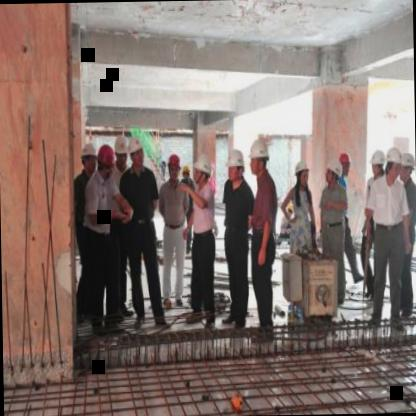helmet: (247, 134, 272, 182), (226, 146, 245, 186), (191, 151, 215, 182), (78, 140, 96, 176), (385, 144, 401, 183), (127, 134, 144, 170), (96, 145, 115, 176), (367, 148, 386, 178), (323, 158, 342, 188), (165, 152, 184, 182), (294, 158, 312, 188), (402, 148, 416, 184), (114, 132, 128, 168), (338, 150, 352, 177)
